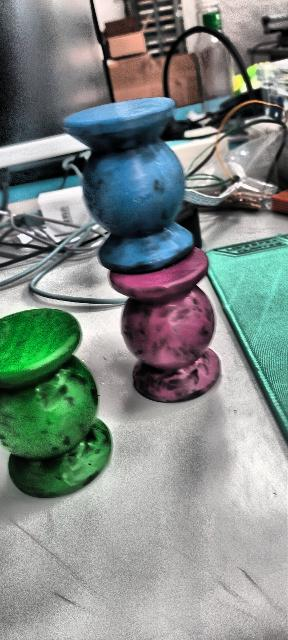blue: (63, 96, 195, 274)
green: (0, 307, 113, 501)
red: (110, 244, 225, 403)
